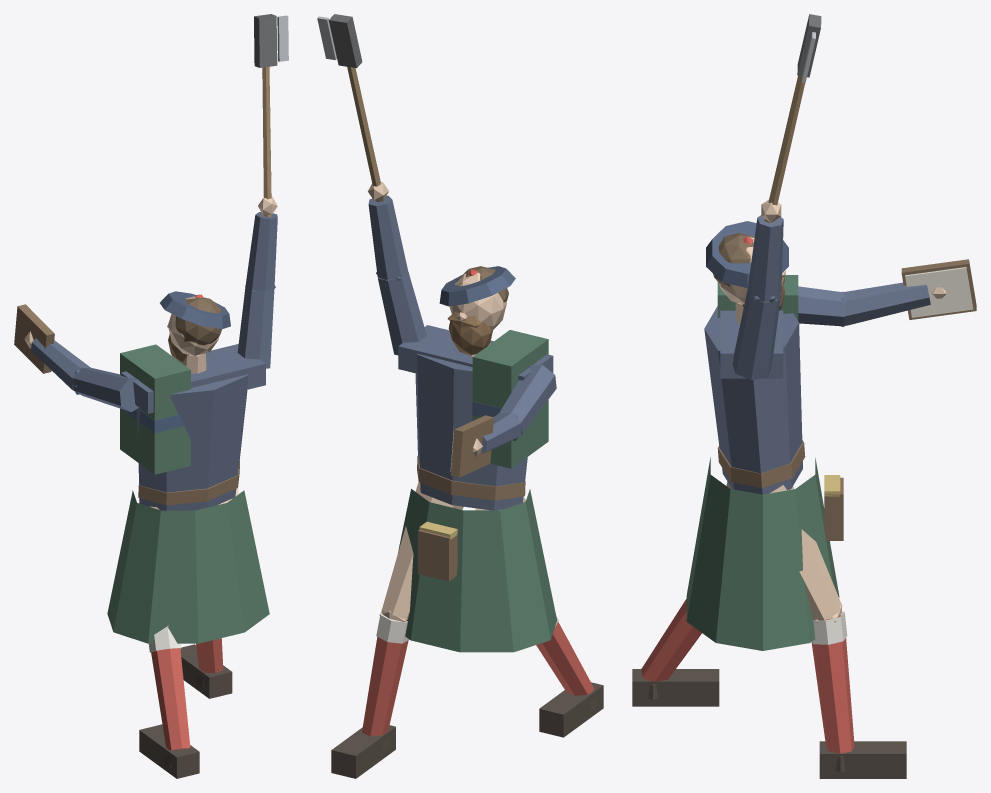
File: dundonnachie_axe_raised.glb
The picture shows the model from 3 angles, left to right: view 1: azimuth 30°, elevation 25°; view 2: azimuth 150°, elevation 25°; view 3: azimuth 270°, elevation 25°; orthographic projection. The views are drawn at different scales.
Visible parts, largest first — view 1: tartan_g, wool_navy, hose_red, boot, leather, skin, bonnet_blue, iron, hair, wood, tartan_b, steel (+1 smaller); view 2: tartan_g, wool_navy, leather, hose_red, boot, skin, bonnet_blue, beard, iron, wood, hose_white, steel; view 3: wool_navy, tartan_g, boot, hose_red, skin, leather, paper, bonnet_blue, wood, hair, hose_white, iron.
Part boxes in pixels (x1,y1,x2,y2): tartan_g: [107, 344, 269, 643]; wool_navy: [31, 212, 277, 510]; hose_red: [151, 638, 223, 750]; boot: [139, 644, 232, 778]; leather: [14, 304, 239, 505]; skin: [24, 196, 277, 627]; bonnet_blue: [160, 291, 230, 328]; iron: [254, 14, 277, 67]; hair: [175, 297, 222, 345]; wood: [262, 66, 271, 216]; tartan_b: [122, 409, 184, 433]; steel: [277, 15, 288, 61]; tartan_g: [398, 330, 556, 652]; wool_navy: [368, 195, 556, 510]; leather: [417, 415, 525, 581]; hose_red: [362, 610, 594, 735]; boot: [331, 682, 603, 778]; skin: [368, 182, 525, 621]; bonnet_blue: [439, 266, 515, 306]; beard: [447, 311, 493, 354]; iron: [328, 14, 362, 68]; wood: [347, 66, 384, 201]; hose_white: [376, 609, 558, 643]; steel: [317, 16, 336, 60]; wool_navy: [704, 215, 930, 494]; tartan_g: [686, 275, 839, 650]; boot: [632, 669, 906, 778]; hose_red: [641, 599, 854, 753]; skin: [719, 199, 945, 622]; leather: [717, 259, 976, 540]; paper: [905, 267, 973, 317]; bonnet_blue: [706, 221, 788, 287]; wood: [764, 75, 804, 222]; hair: [713, 233, 754, 286]; hose_white: [812, 611, 847, 644]; iron: [797, 14, 821, 77].
Size of the model in its own units: 0.8915 by 2.77 by 1.11.
